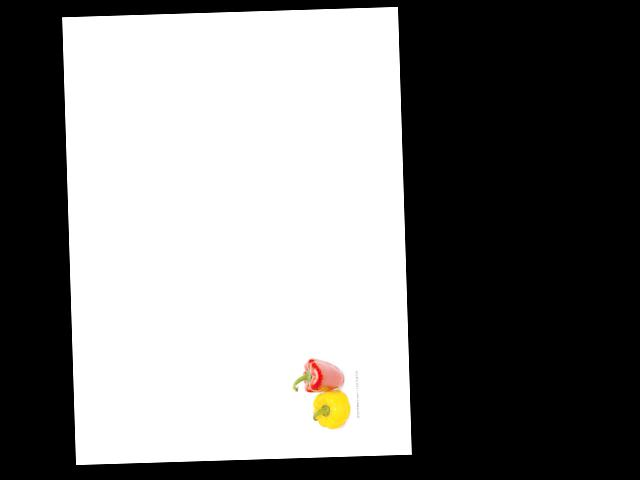bell_pepper: (309, 388, 354, 431)
